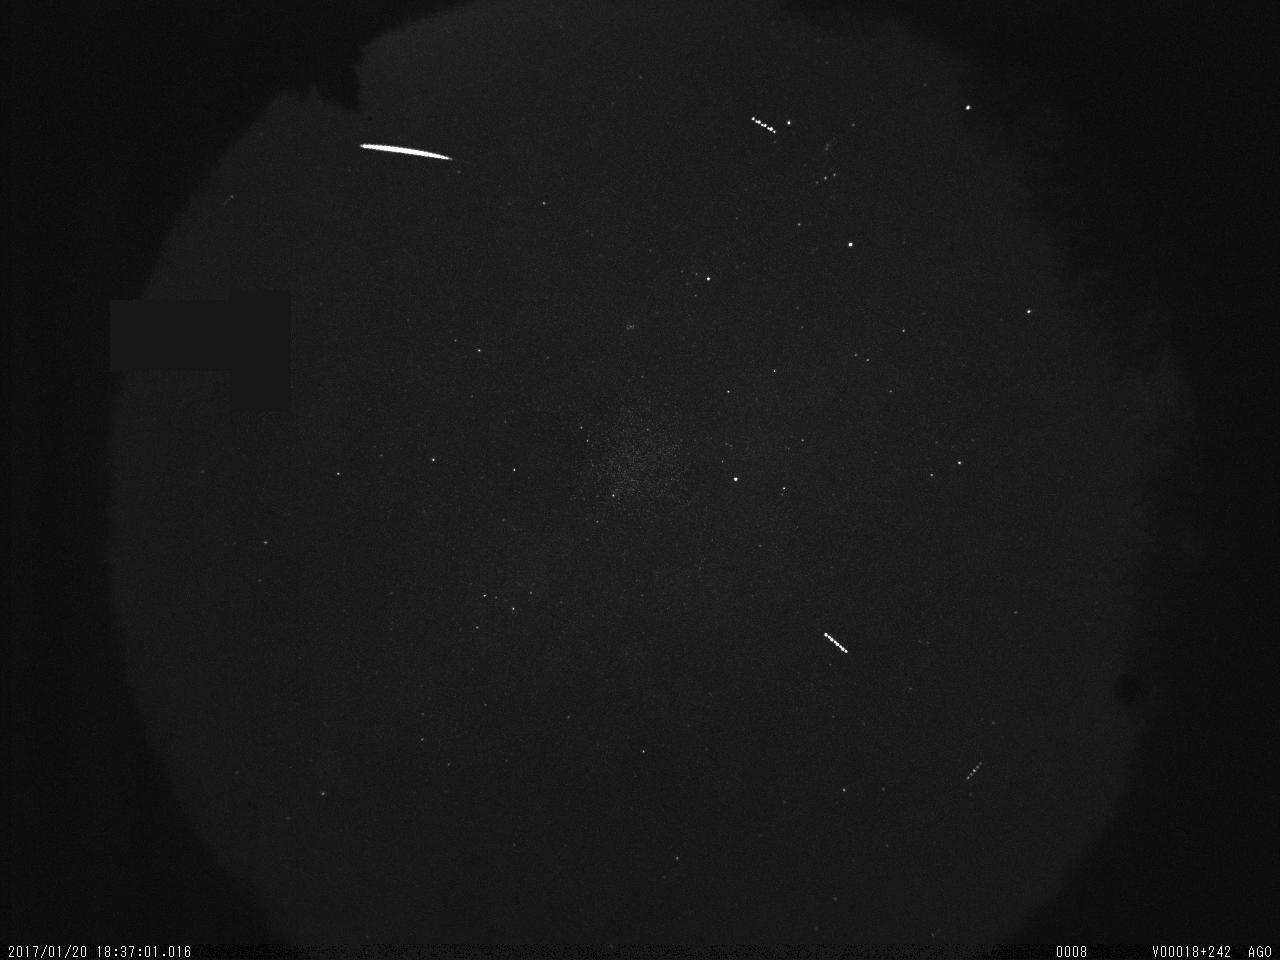meteor: (346, 133, 479, 173)
